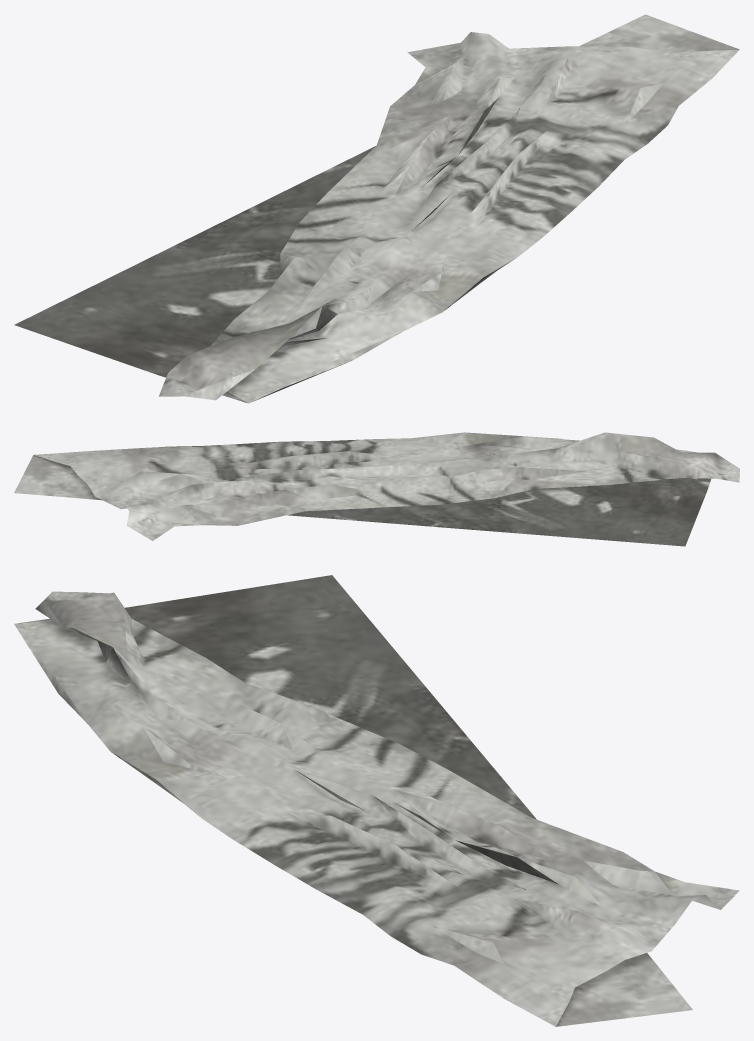
Rendered from rag_sheet_2_lod1_web.glb.
The picture shows the model from 3 angles, top to bottom: view 1: azimuth 30°, elevation 25°; view 2: azimuth 150°, elevation 25°; view 3: azimuth 270°, elevation 25°; orthographic projection. The views are drawn at different scales.
Visible parts, largest first — view 1: rag_sheet_2_Cloth; view 2: rag_sheet_2_Cloth; view 3: rag_sheet_2_Cloth.
Part boxes in pixels (box(x1,y1,x2,y2)): rag_sheet_2_Cloth: box(14, 14, 739, 403); rag_sheet_2_Cloth: box(14, 432, 739, 546); rag_sheet_2_Cloth: box(14, 575, 739, 1026).
Bounding box in the file's own units: 2.16 × 0.0976 × 1.46.
Materials: 1 (1 with a texture image).
